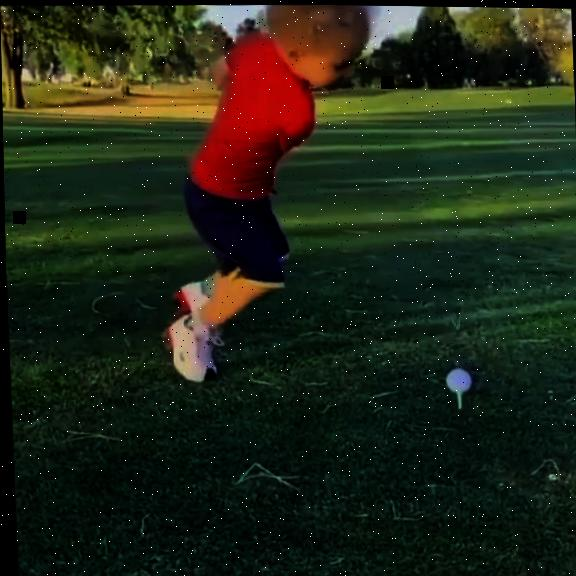GolfBall: (443, 366, 470, 391)
